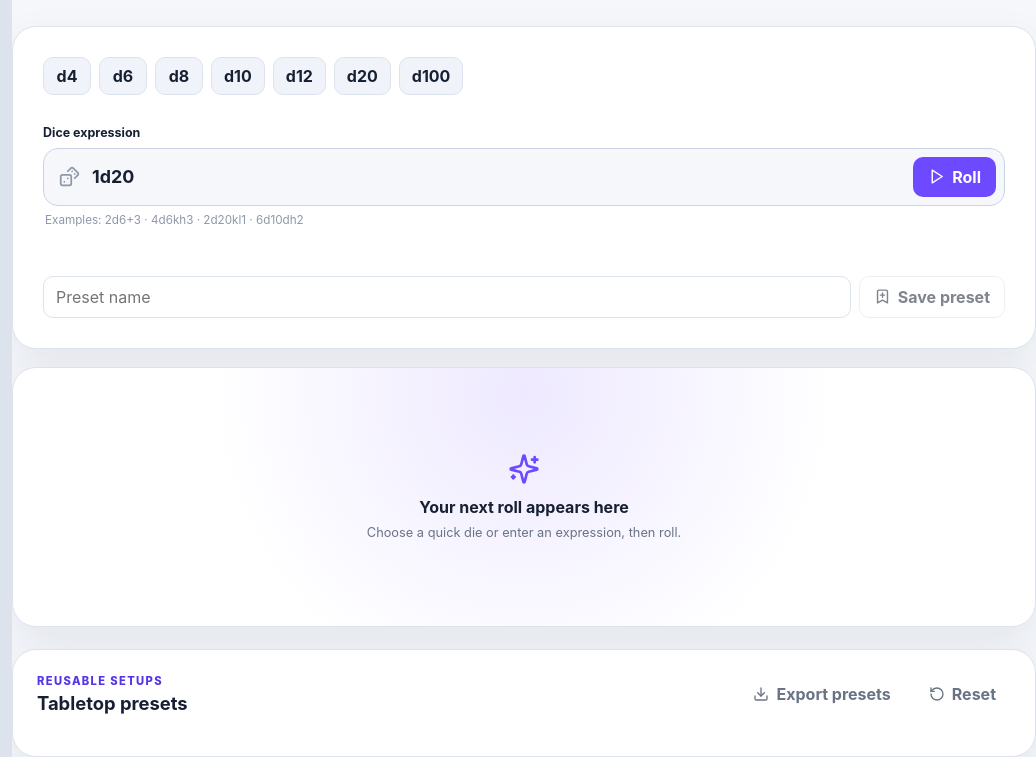
Test case: RollWorkspace preset transfer › reports a successful preset export
The image size is (1036, 757).
(page scrolled)
Click the button "Export presets" at (822, 694), box x1=738 y1=674 x2=906 y2=714
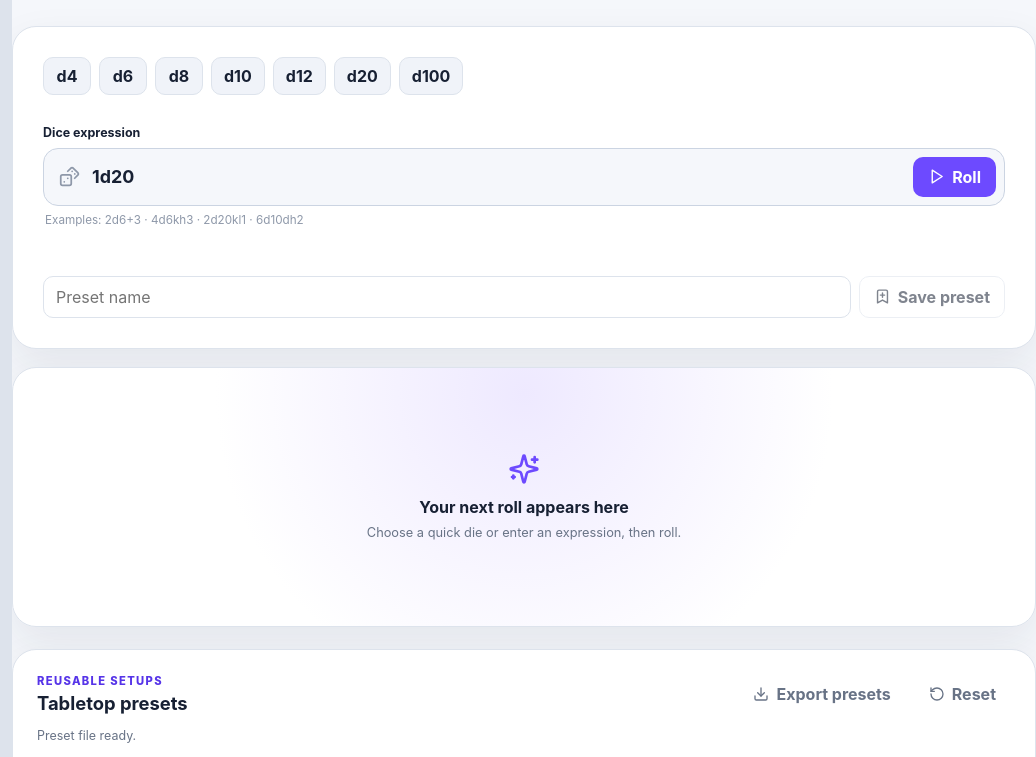
Expected: the message "Preset file ready." is shown, x1=37 y1=728 x2=136 y2=743
